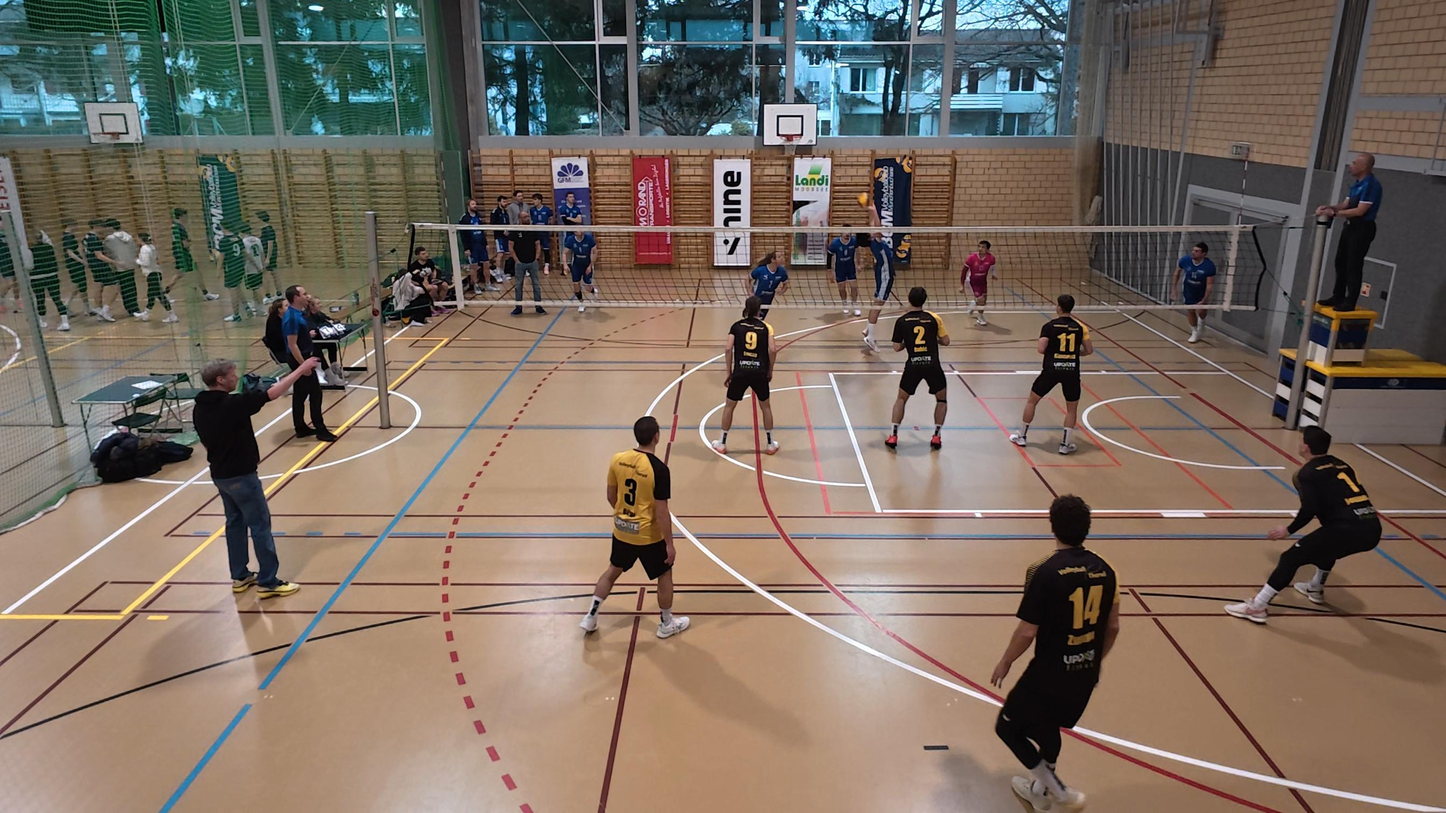alzata: (852, 198, 907, 354)
